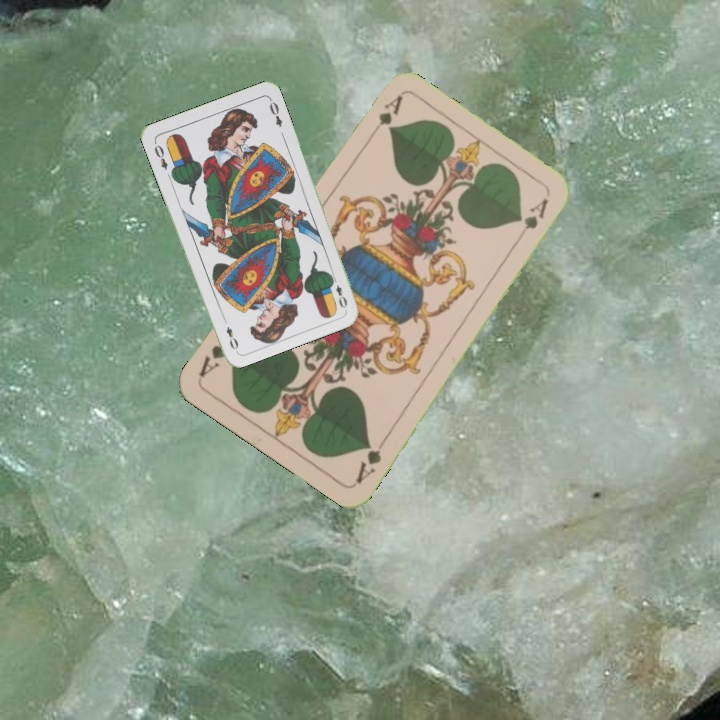EO: (328, 272, 350, 311), (150, 138, 170, 172)
GA: (363, 91, 405, 143), (351, 433, 389, 487)
